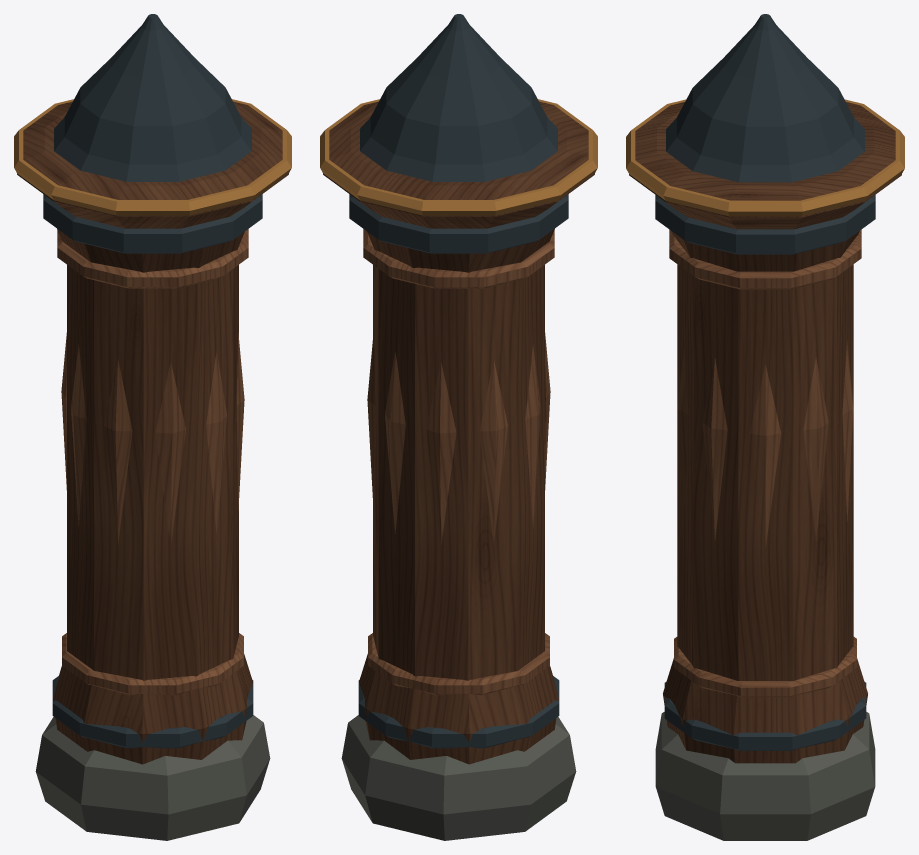
The model's file is palisade_post.glb.
3 renders of one model, left to right at view 1: azimuth 30°, elevation 25°; view 2: azimuth 150°, elevation 25°; view 3: azimuth 270°, elevation 25°, orthographic.
Parts seen in each view (by area): view 1: palisade_post.015; view 2: palisade_post.015; view 3: palisade_post.015.
Part boxes in pixels (x1,y1,x2,y2): palisade_post.015: (14, 14, 291, 840); palisade_post.015: (320, 14, 597, 840); palisade_post.015: (626, 14, 904, 840).
Size of the model in its own units: 0.8693 by 2.69 by 0.8693.
Materials: 5 (2 with a texture image).
